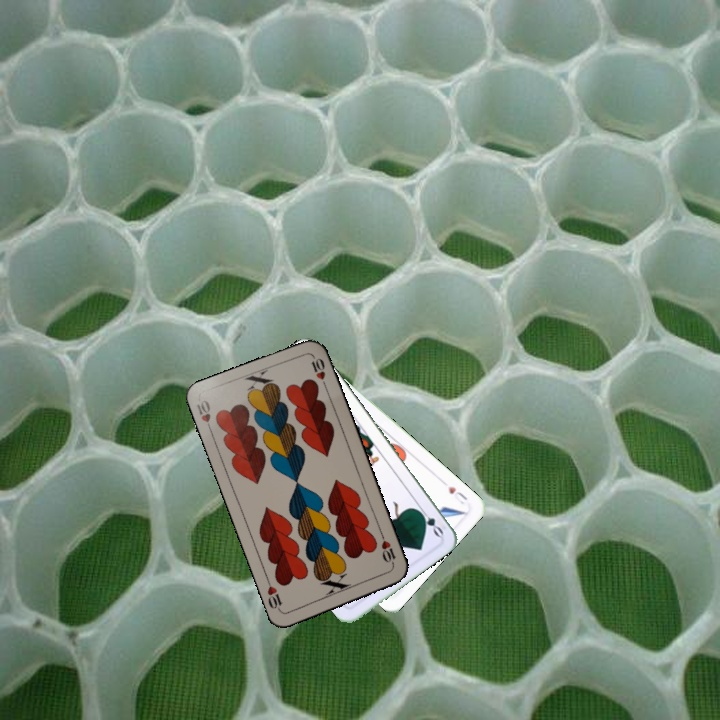GO: (413, 503, 446, 540)
H10: (192, 396, 215, 436), (377, 529, 398, 569)
HU: (443, 482, 470, 507)
